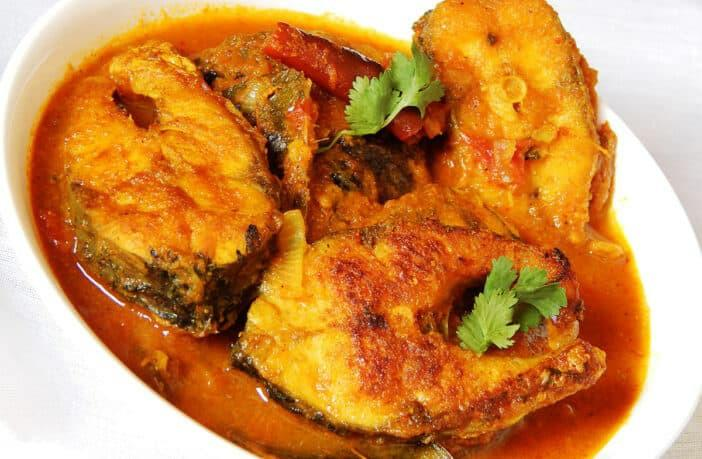FishCurry: (33, 0, 650, 459)
